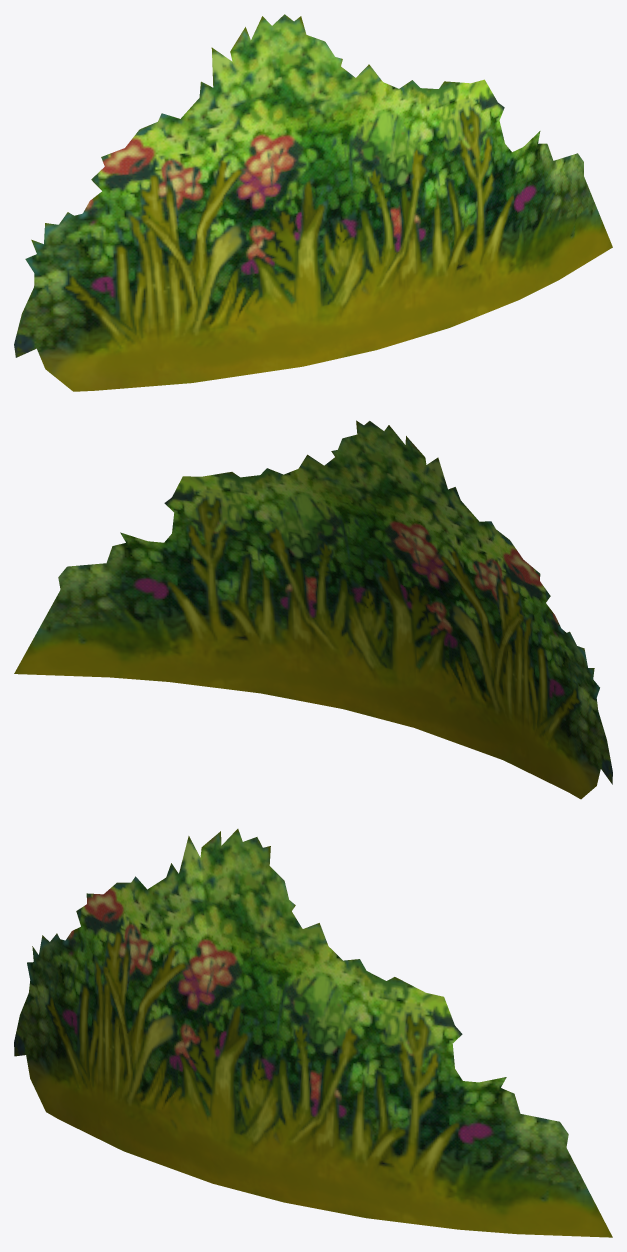
Rendered from sences_changbanpo_guanmu002.FBX.
3 renders of one model, top to bottom at view 1: azimuth 30°, elevation 25°; view 2: azimuth 150°, elevation 25°; view 3: azimuth 330°, elevation 25°, orthographic.
Visible parts, largest first — view 1: sences_changbanpo_guanmu002; view 2: sences_changbanpo_guanmu002; view 3: sences_changbanpo_guanmu002.
Boxes of the visible parts, x1,y1,x2,y2 form: sences_changbanpo_guanmu002: (14,14,612,391); sences_changbanpo_guanmu002: (14,420,612,799); sences_changbanpo_guanmu002: (14,829,612,1237).
Bounding box in the file's own units: 5.11 × 0.7049 × 2.68.
